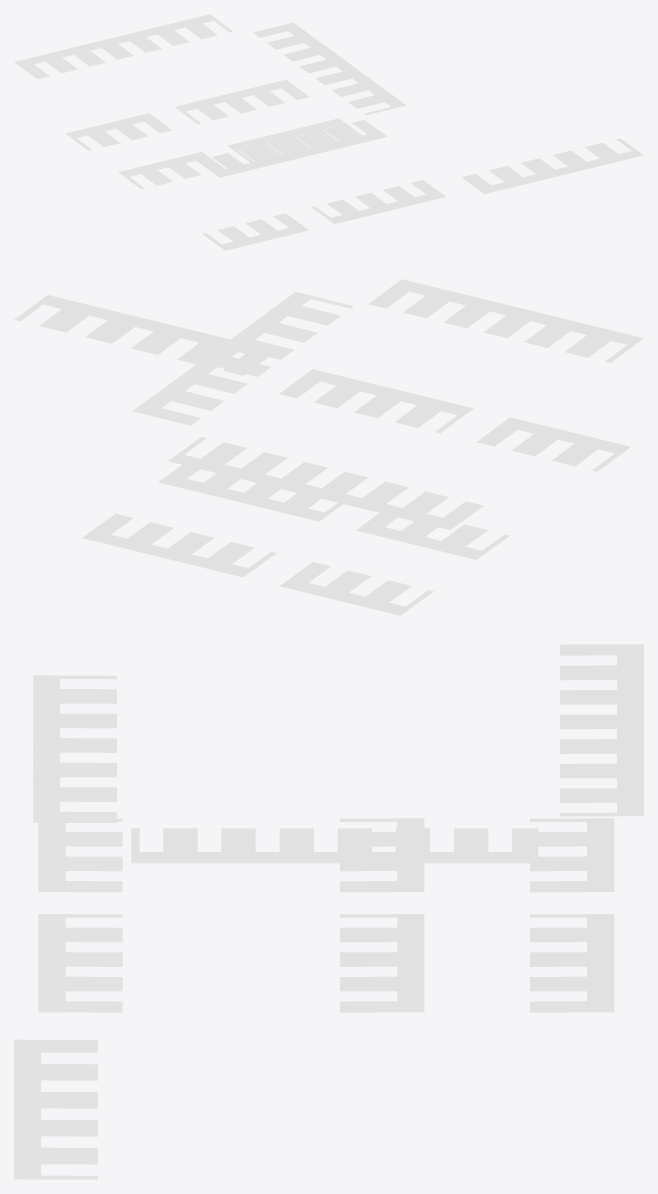
The model's file is carspaces1_sfw.obj.
3 views of the same model, one above another, from view 1: azimuth 30°, elevation 25°; view 2: azimuth 150°, elevation 25°; view 3: azimuth 270°, elevation 25° (orthographic). The views are drawn at different scales.
Parts seen in each view (by area): view 1: carspaces1_sfw; view 2: carspaces1_sfw; view 3: carspaces1_sfw.
Part boxes in pixels (x1,y1,x2,y2): carspaces1_sfw: [14, 14, 643, 250]; carspaces1_sfw: [14, 279, 643, 615]; carspaces1_sfw: [14, 644, 643, 1179].
Size of the model in its own units: 84.58 by 13.54 by 56.47.
1 material, 1 textured.
